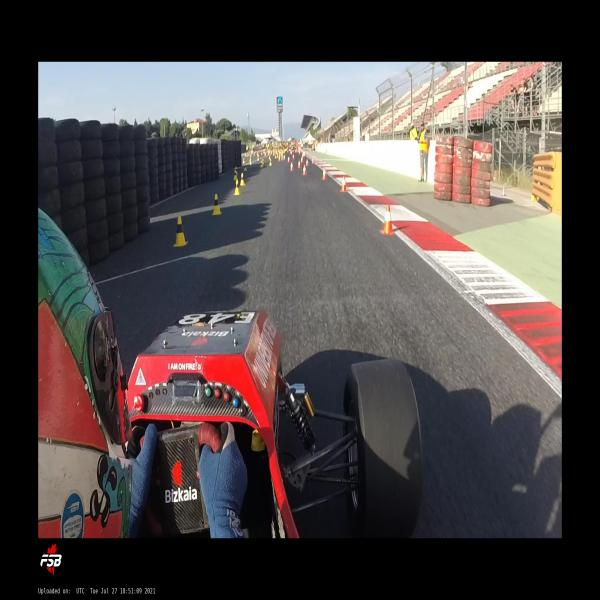orange_cone: (381, 204, 394, 236), (340, 176, 347, 192), (323, 168, 326, 180), (303, 164, 306, 174), (290, 162, 293, 171), (287, 156, 290, 162), (306, 158, 308, 166), (298, 161, 300, 168), (312, 158, 314, 164), (300, 157, 302, 162)
yellow_cone: (174, 216, 187, 246), (212, 194, 222, 215), (233, 179, 240, 196), (240, 173, 245, 186), (233, 170, 237, 180), (249, 157, 252, 165), (244, 164, 247, 171), (260, 160, 262, 168), (270, 159, 272, 166), (242, 158, 244, 164), (262, 159, 264, 165)
